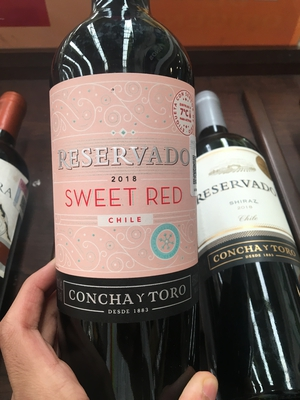reservado sweet red: (45, 14, 210, 387)
